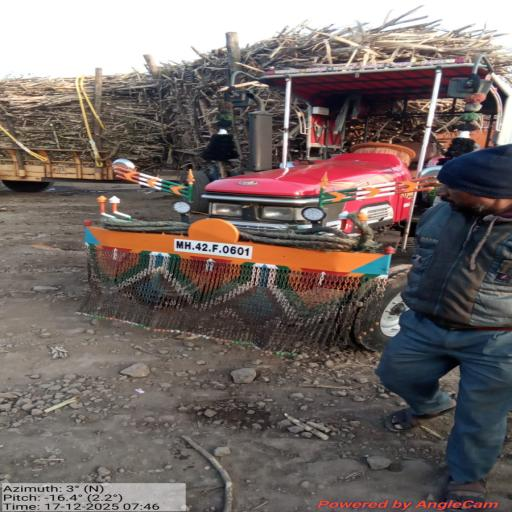number_plate: (175, 239, 253, 259)
